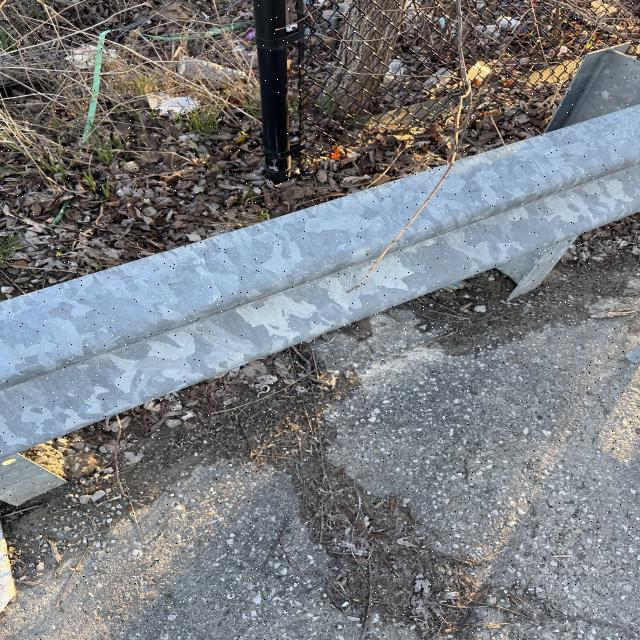Guard rail: (38, 86, 639, 402)
